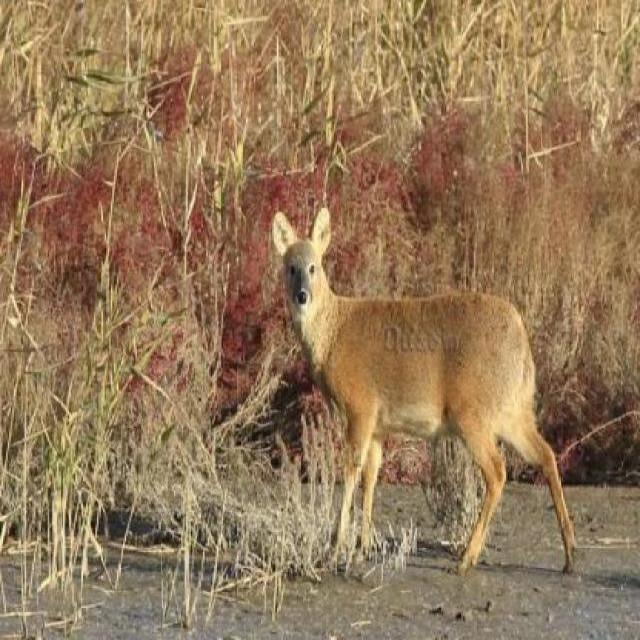deer: (269, 208, 540, 475)
